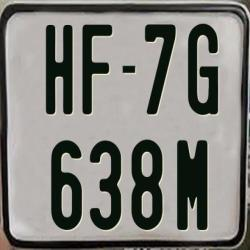3: (89, 139, 122, 230)
6: (50, 139, 81, 231)
7: (143, 23, 174, 116)
8: (131, 138, 164, 232)
F: (82, 24, 114, 116)
G: (188, 22, 219, 114)
H: (45, 25, 75, 115)
M: (176, 140, 209, 230)
